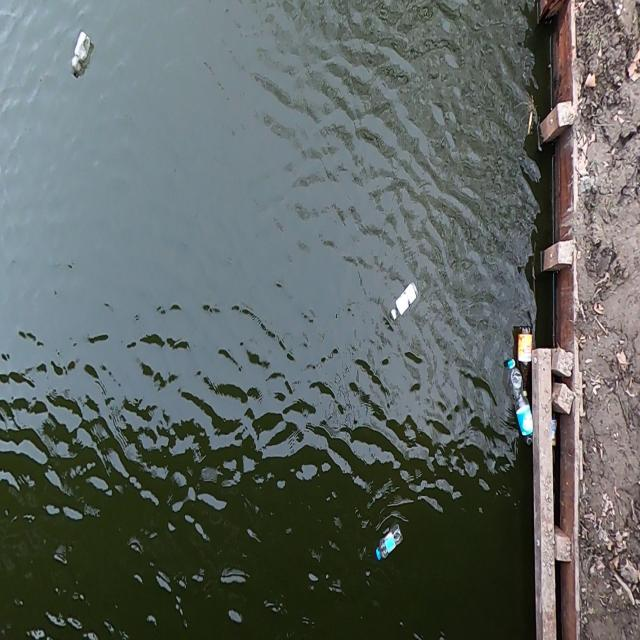Bouteille plastique: (383, 274, 423, 329), (372, 518, 406, 573), (66, 26, 95, 79)
